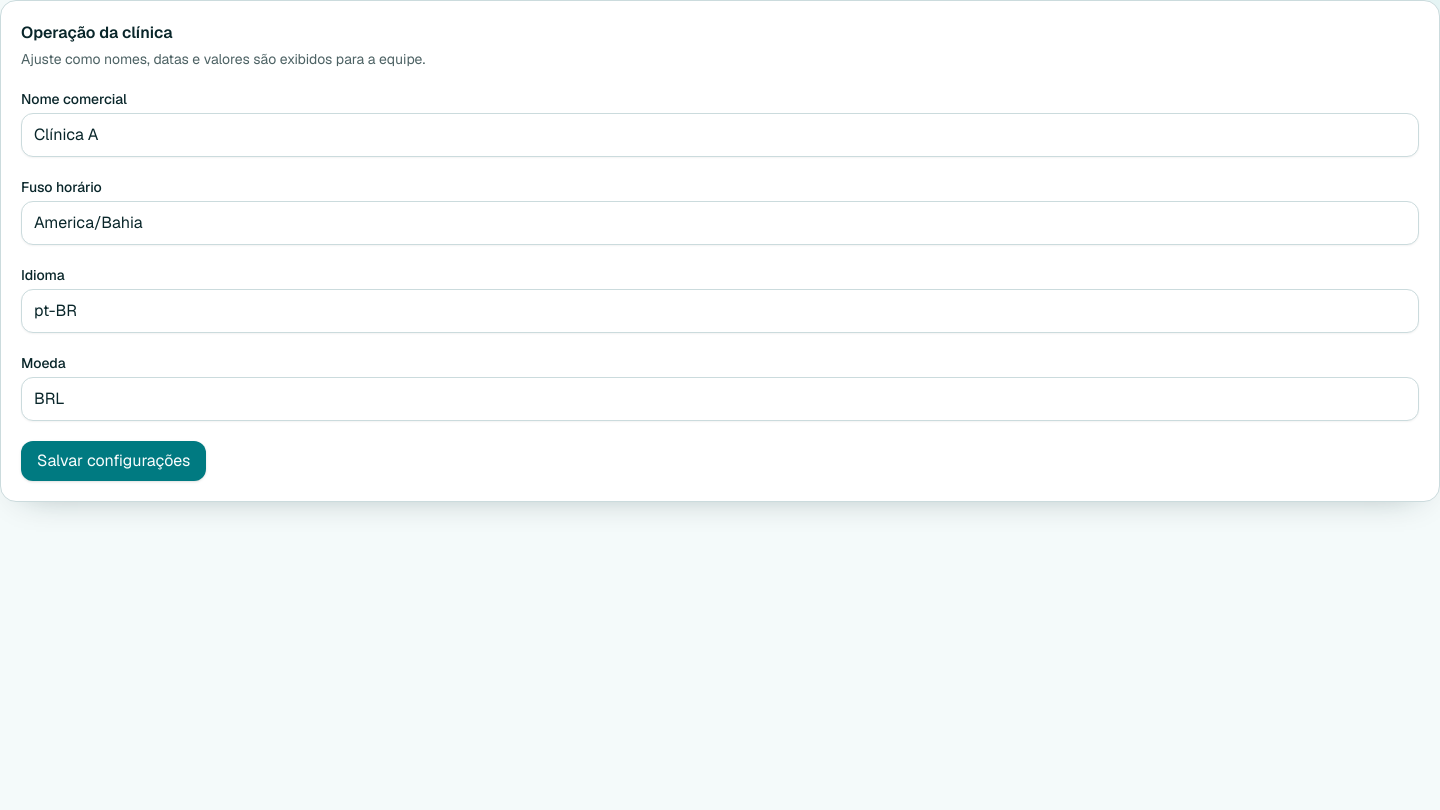
Scenario: ClinicSettingsForm › saves the settings and confirms the success
Replace the text in the field labelled "Nome comercial" with "Clínica Nova" at (720, 135), box [21,113,1419,157]
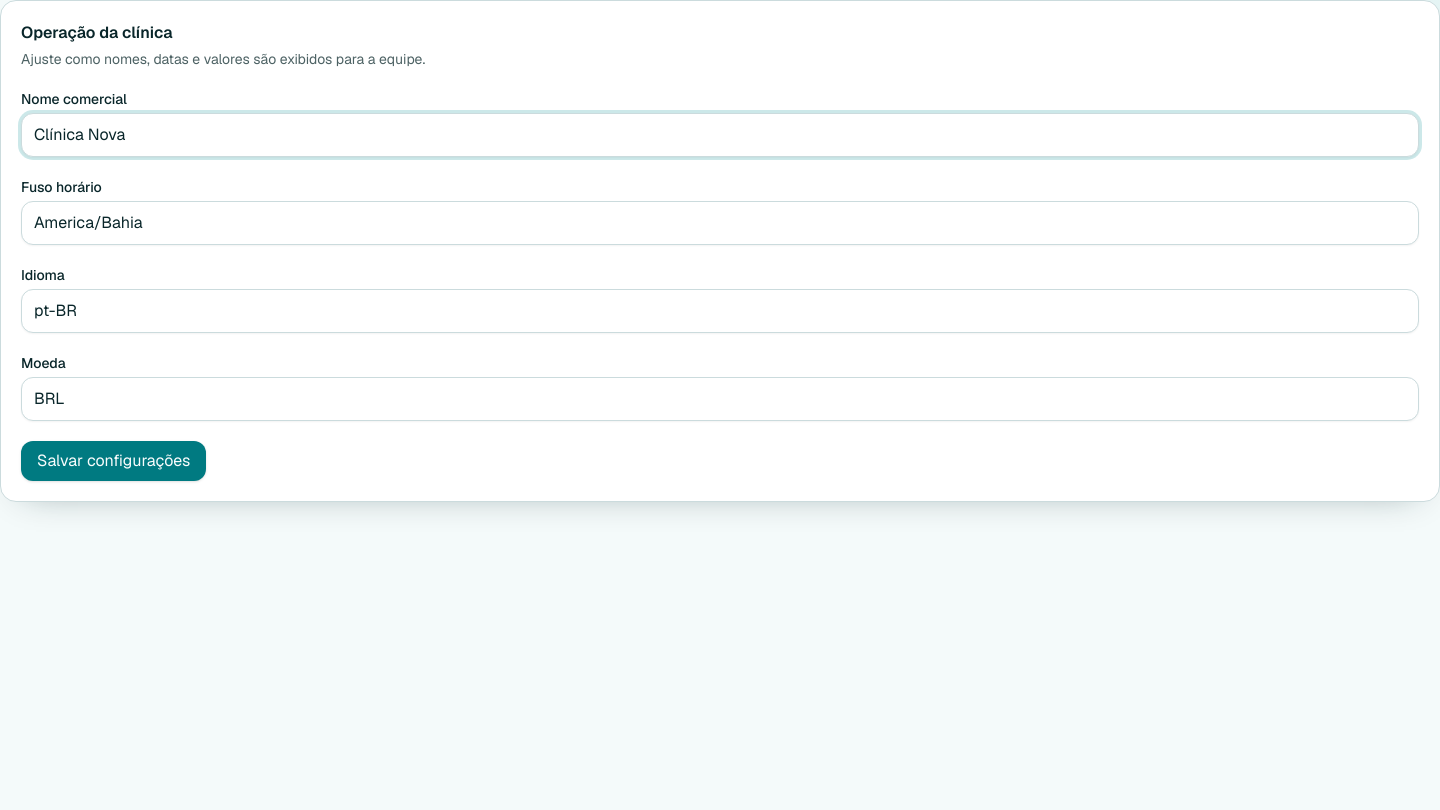
Replace the text in the field labelled "Fuso horário" with "America/Sao_Paulo" at (720, 223), box [21,201,1419,245]
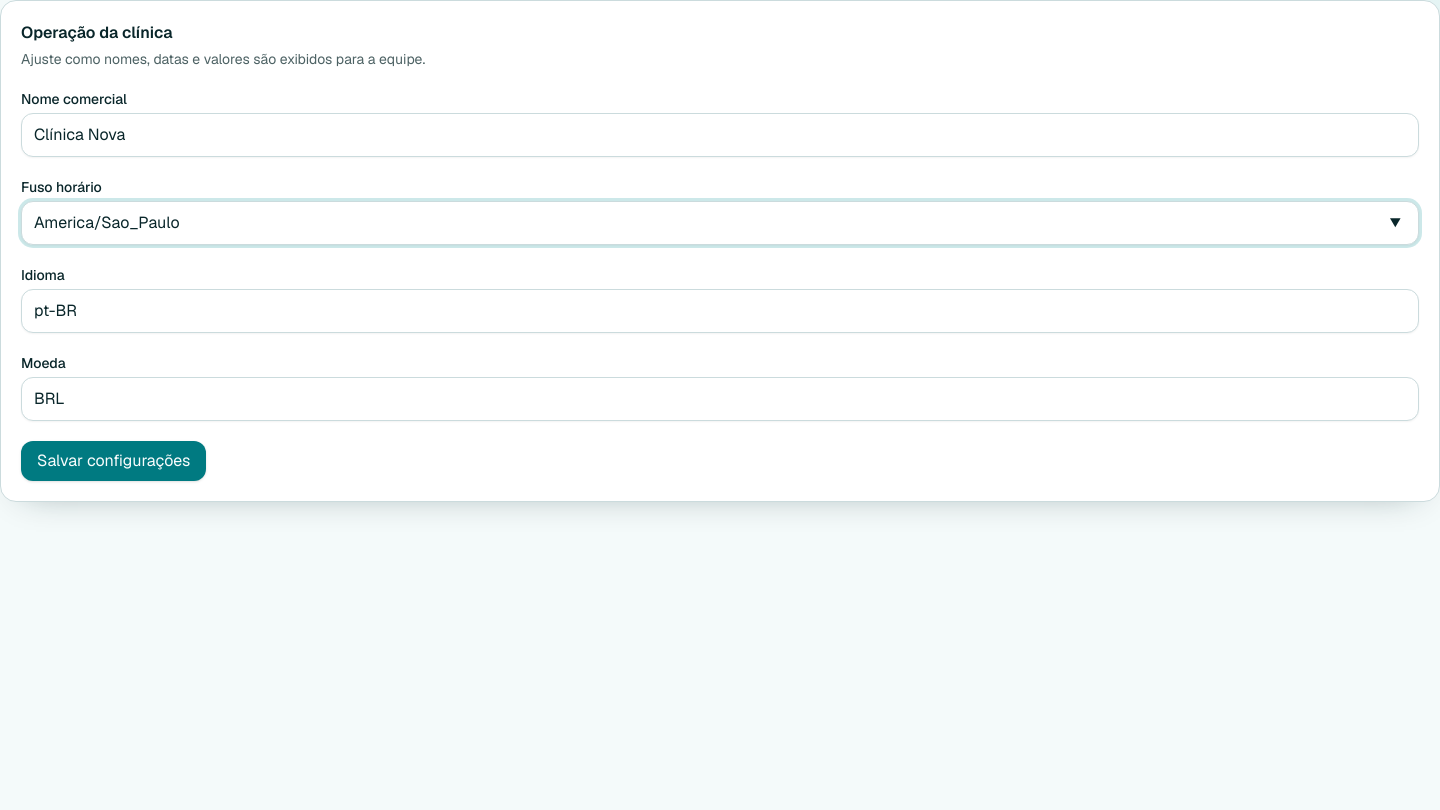
Click the button "Salvar configurações" at (114, 461), box [21,441,206,481]
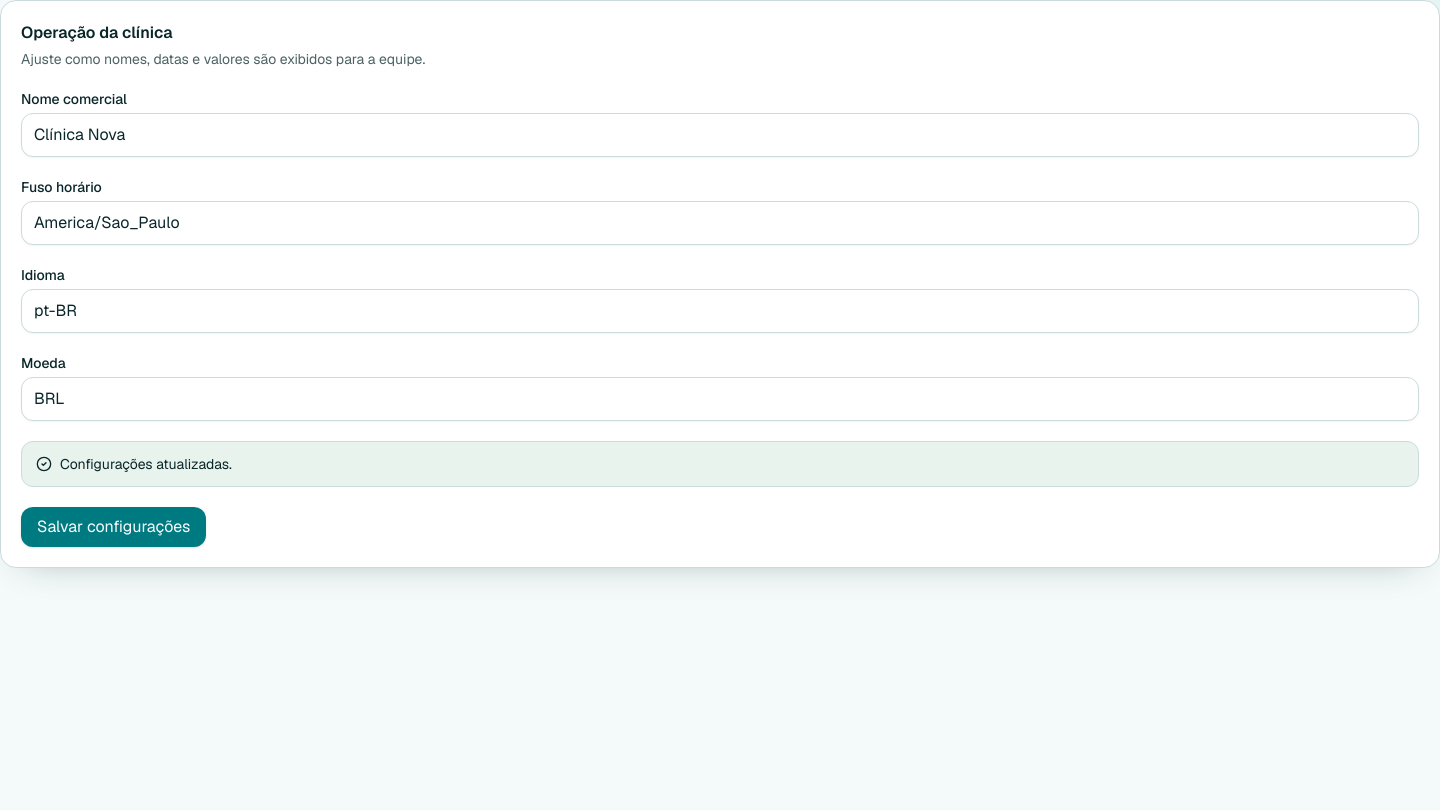
Expected: the message reads "Configurações atualizadas.", [60,455,232,473]
